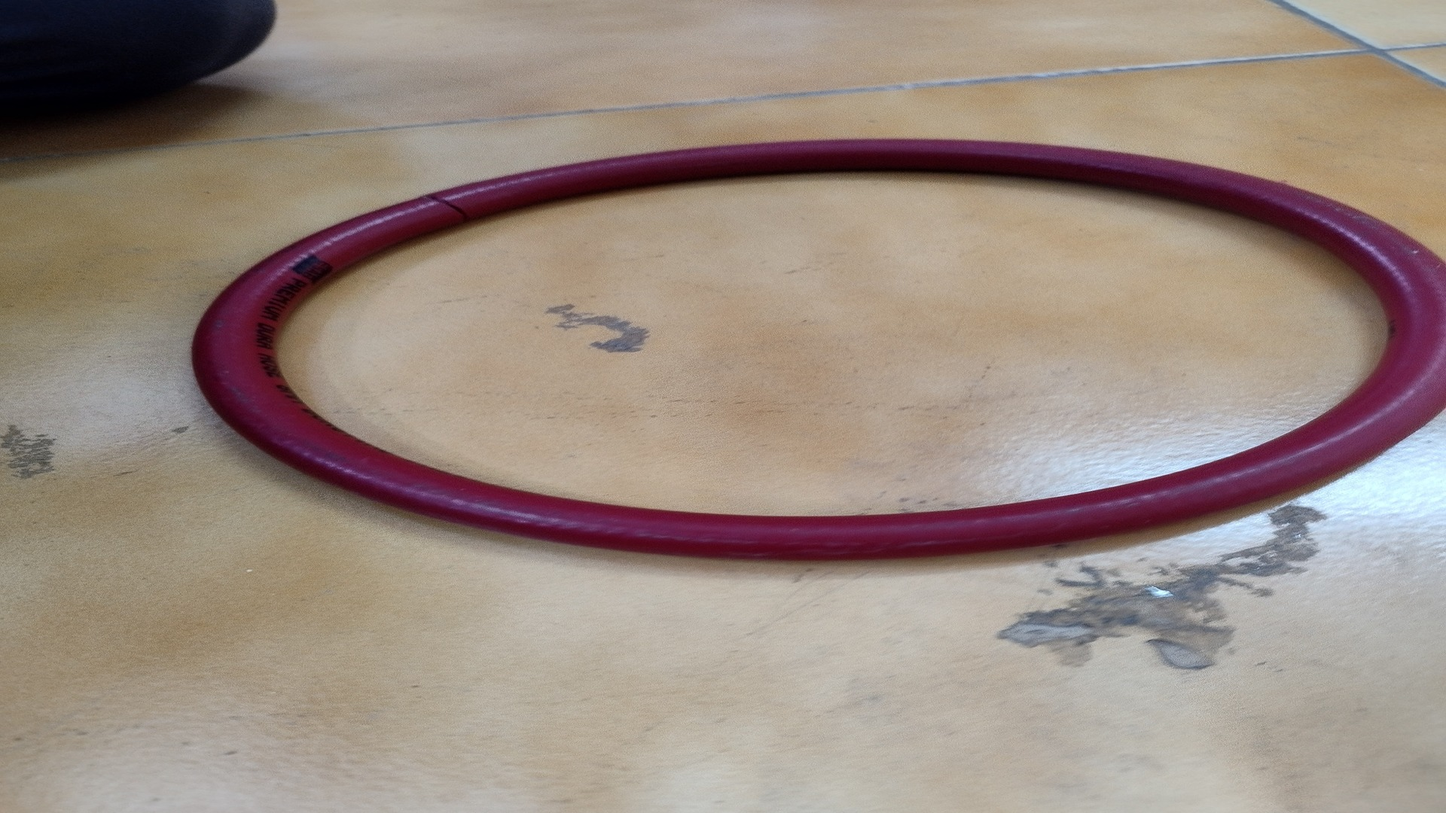Red ring: (194, 136, 1446, 557)
